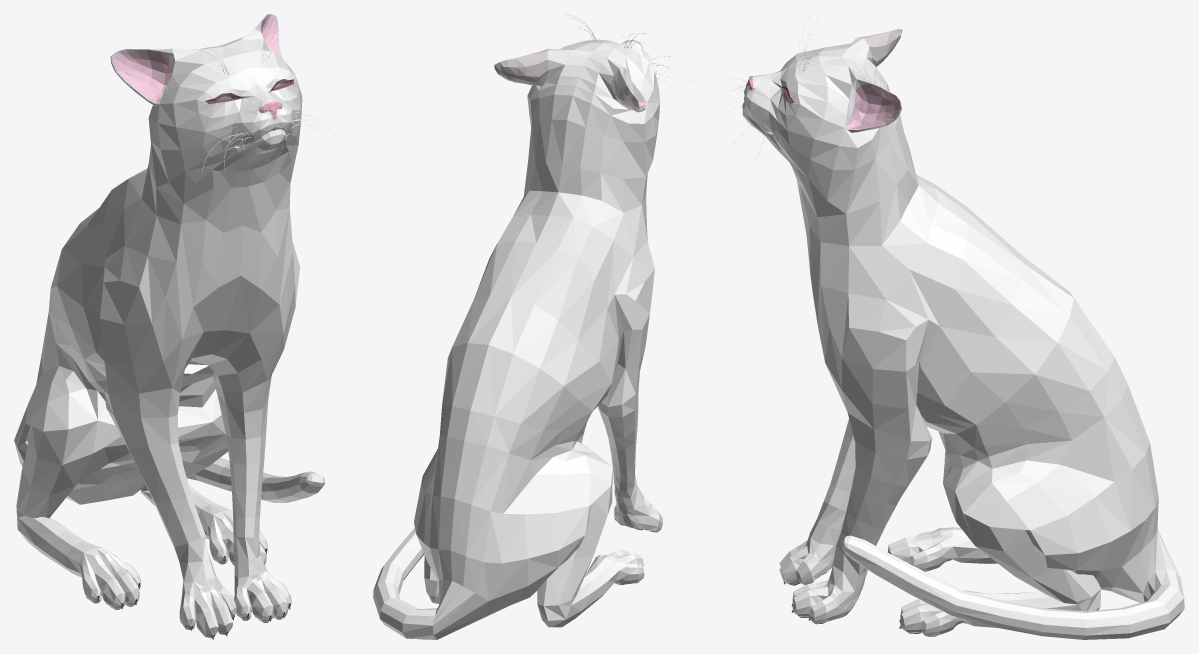
The model's file is Pet_sit_02.glb.
3 renders of one model, left to right at view 1: azimuth 30°, elevation 25°; view 2: azimuth 150°, elevation 25°; view 3: azimuth 270°, elevation 25°, orthographic. The views are drawn at different scales.
Parts seen in each view (by area): view 1: Pet_sit_02; view 2: Pet_sit_02; view 3: Pet_sit_02.
Boxes of the visible parts, x1,y1,x2,y2 form: Pet_sit_02: (14, 14, 344, 639); Pet_sit_02: (373, 15, 689, 639); Pet_sit_02: (730, 19, 1184, 639).
Size of the model in its own units: 0.1823 by 0.453 by 0.3339.
1 material, 1 textured.
